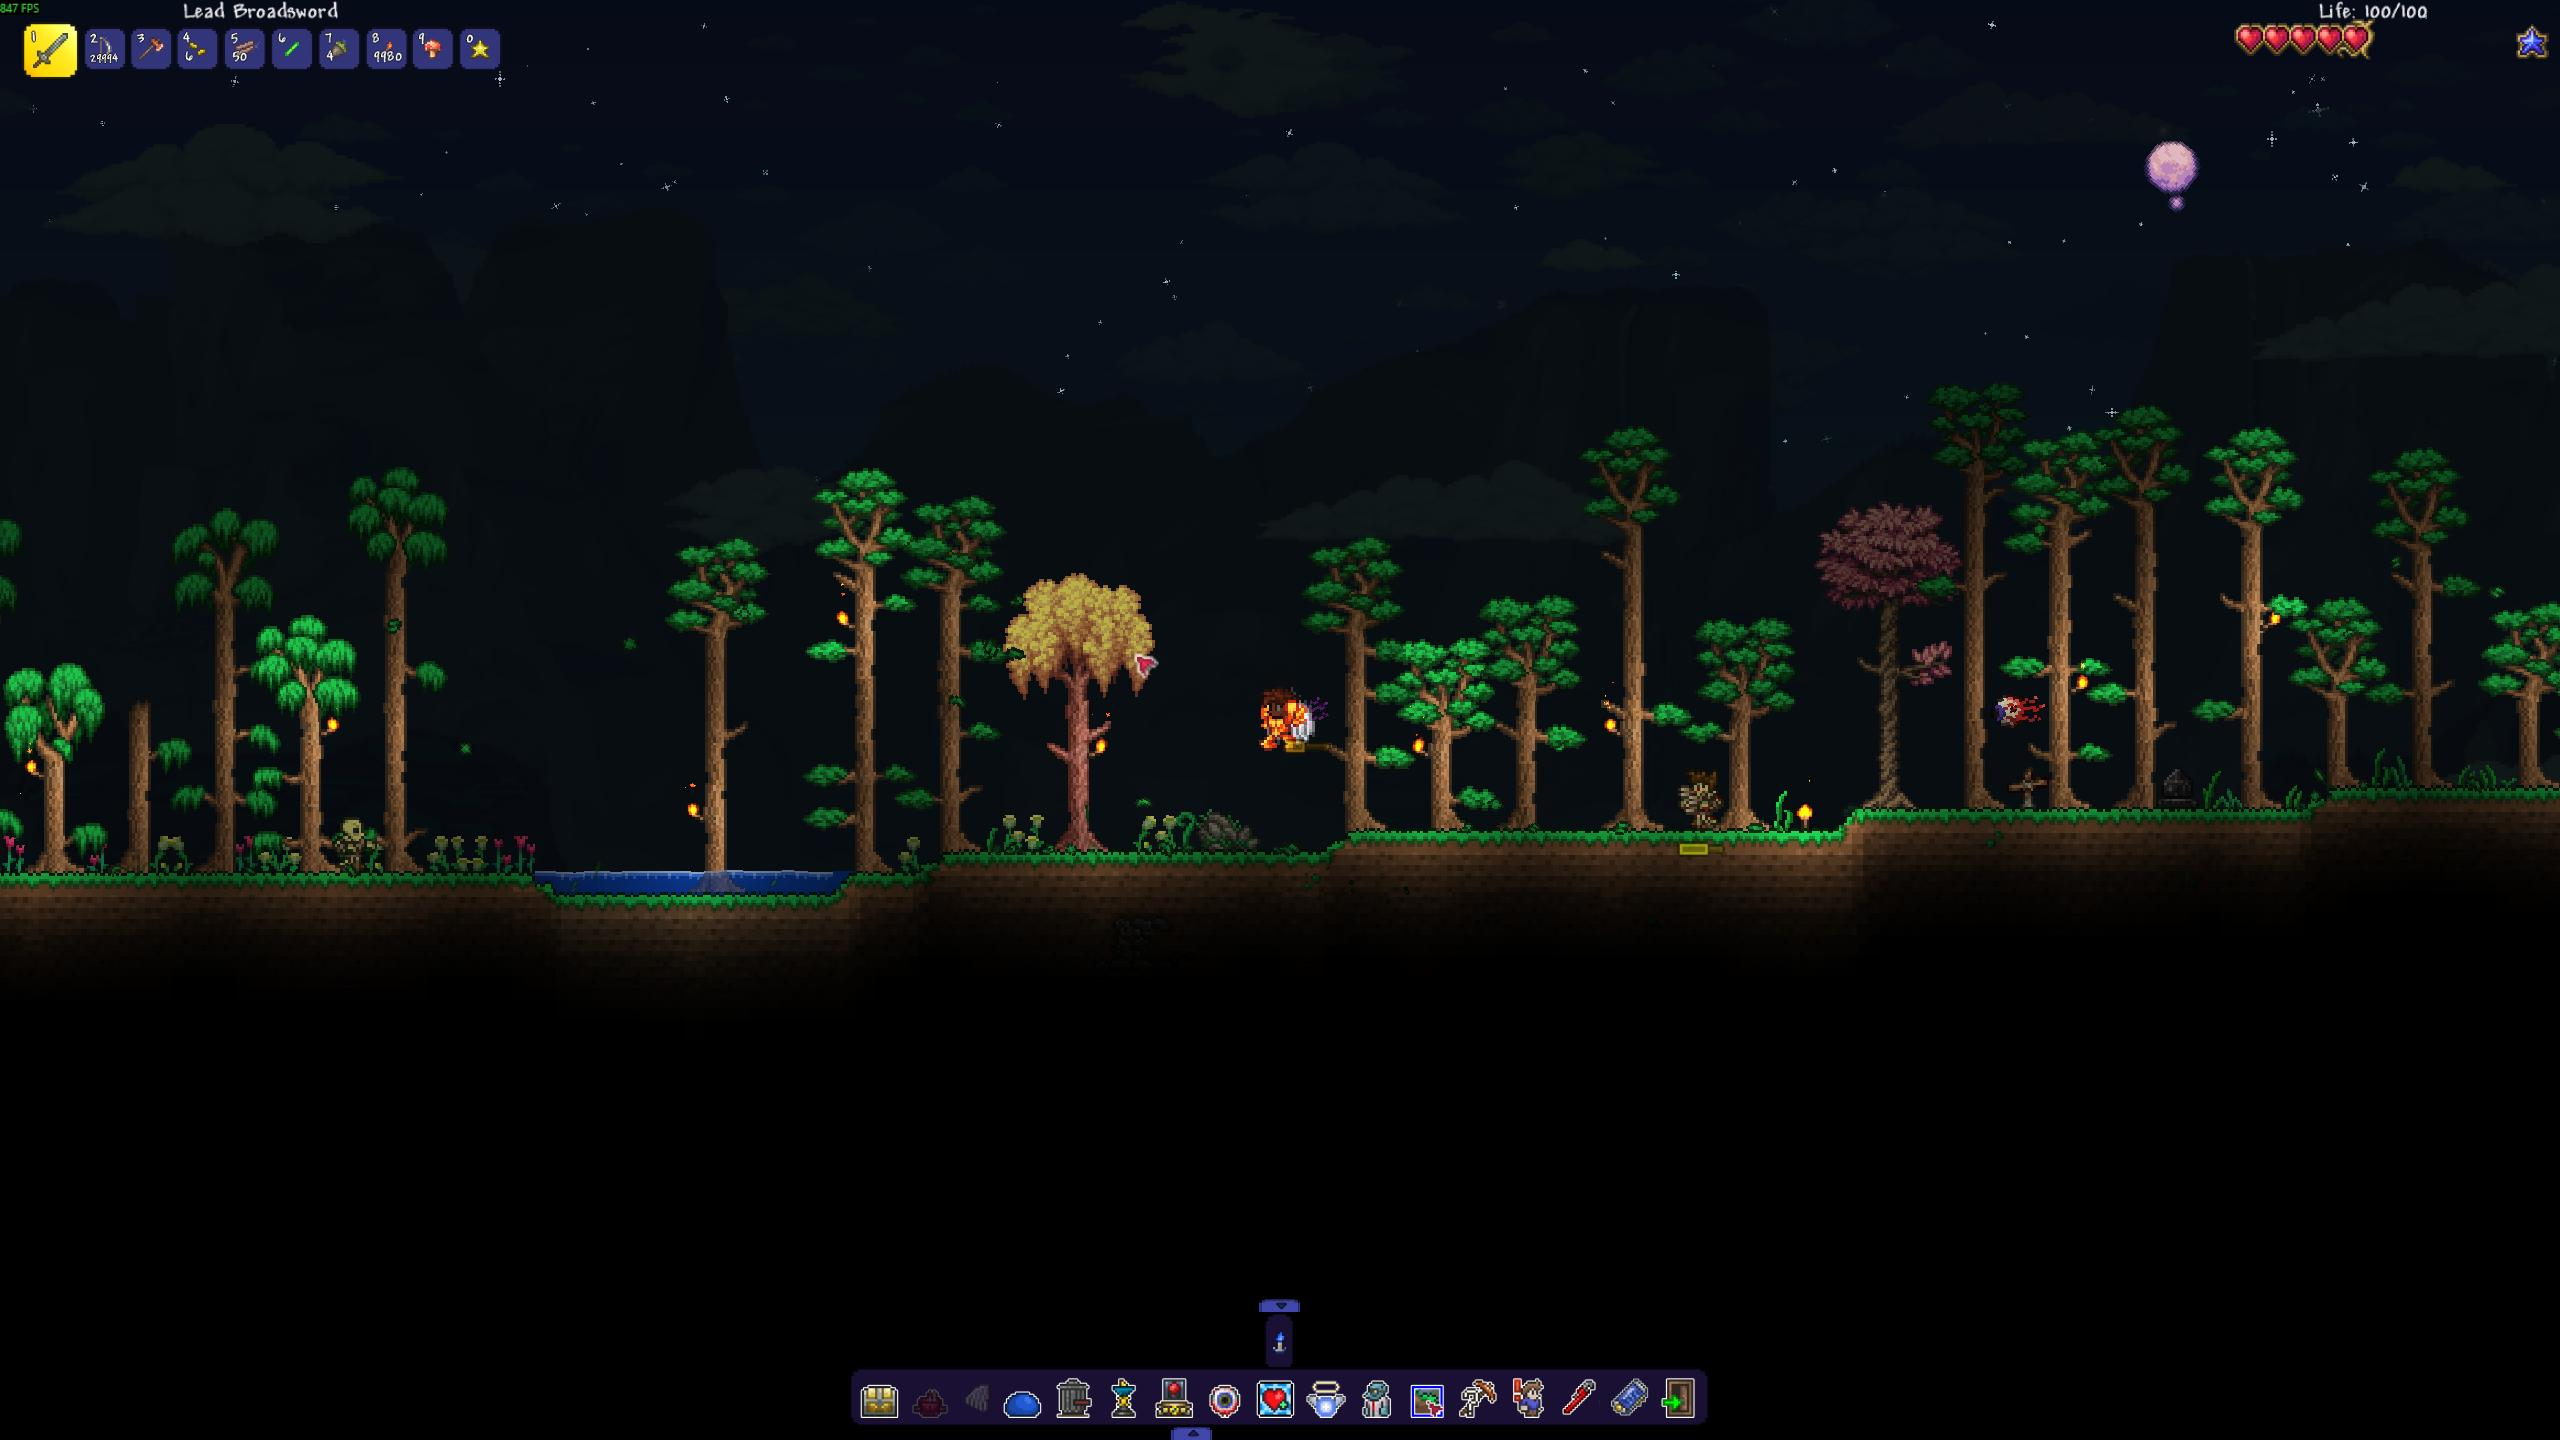Demon Eye: (1985, 689, 2052, 730)
Zombie: (1674, 765, 1727, 833), (331, 816, 380, 877)
